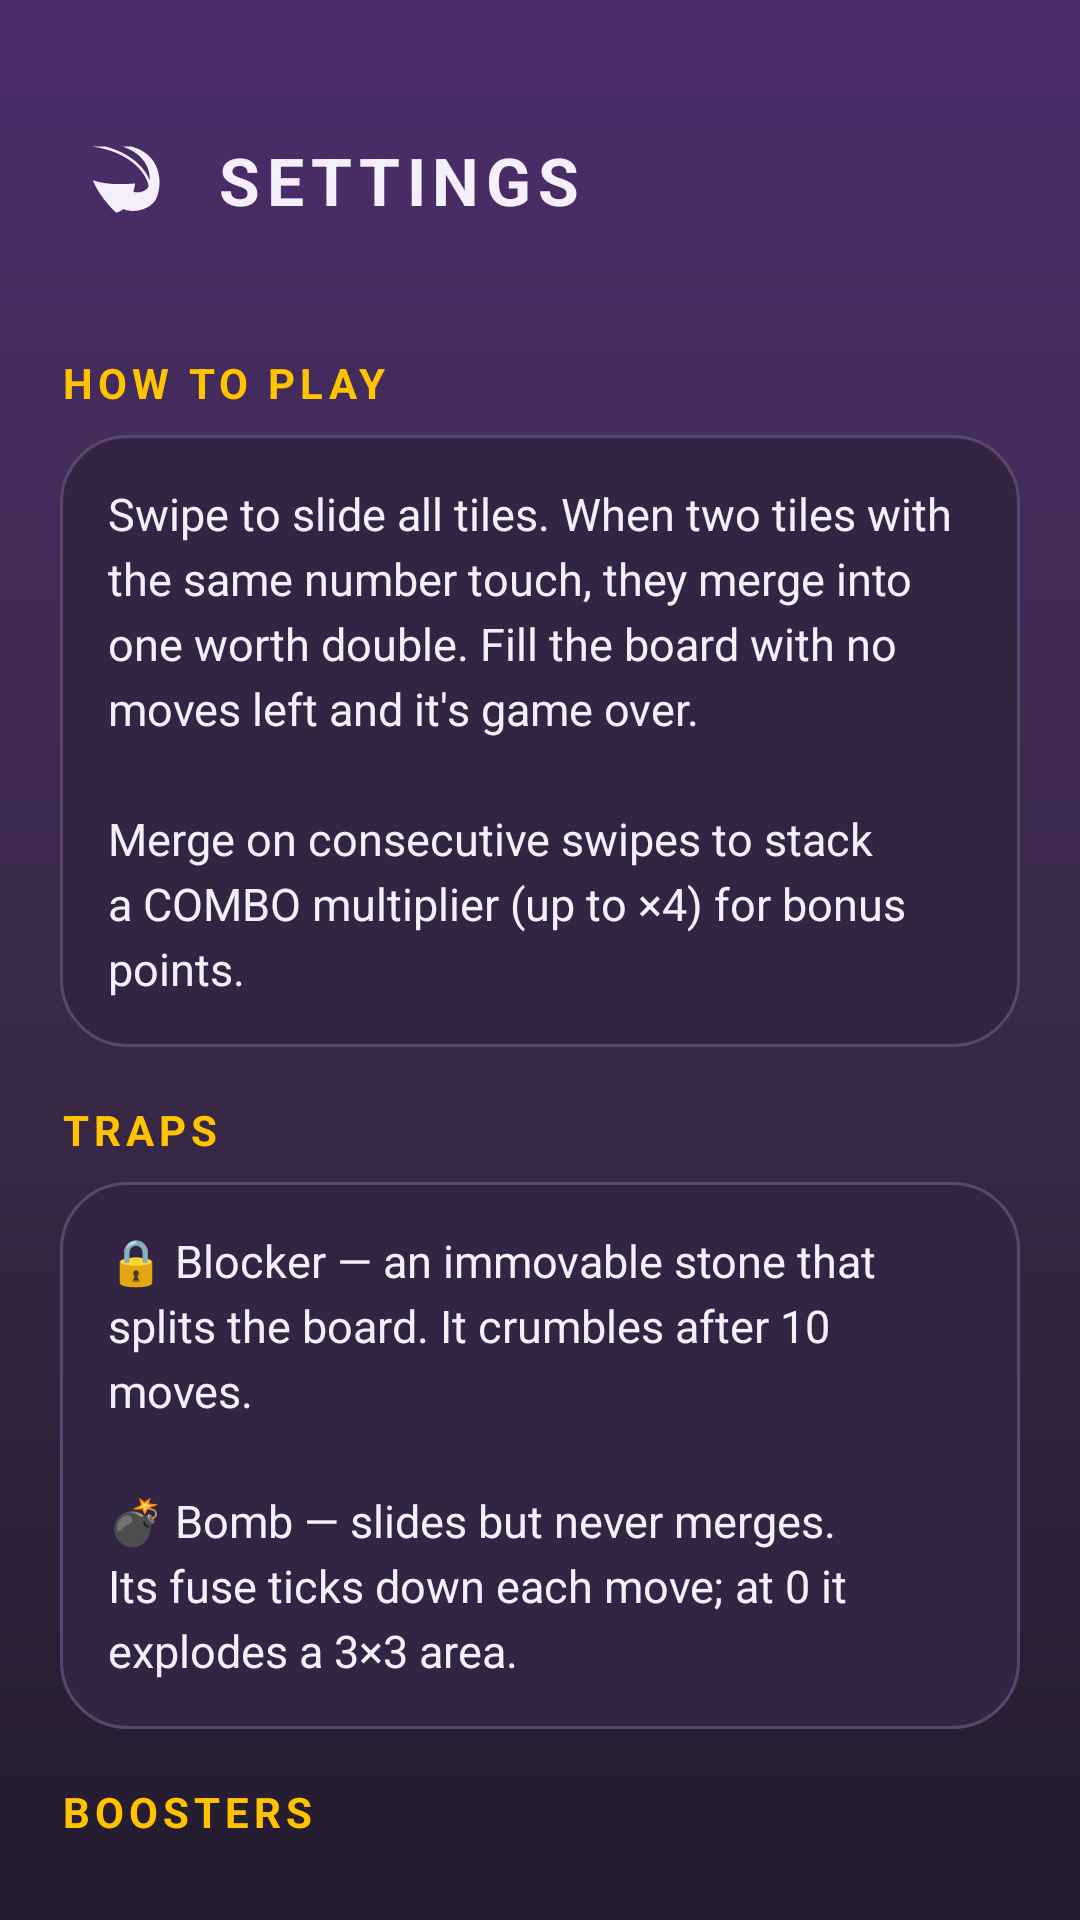

Icon click points for this 1080px x 1920px phone screenshot, format (x=x, y=y):
BACK: (x=126, y=179)
